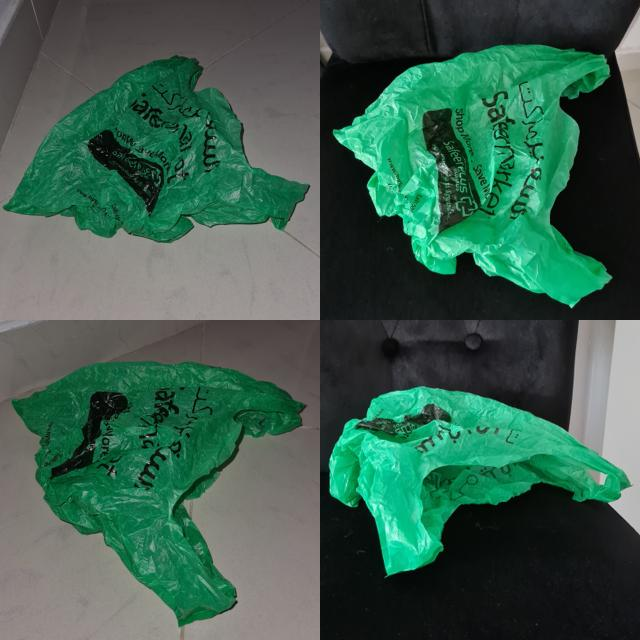Single-layer Plastic: (12, 361, 304, 625), (334, 45, 610, 306), (329, 386, 630, 575), (5, 56, 308, 242)
